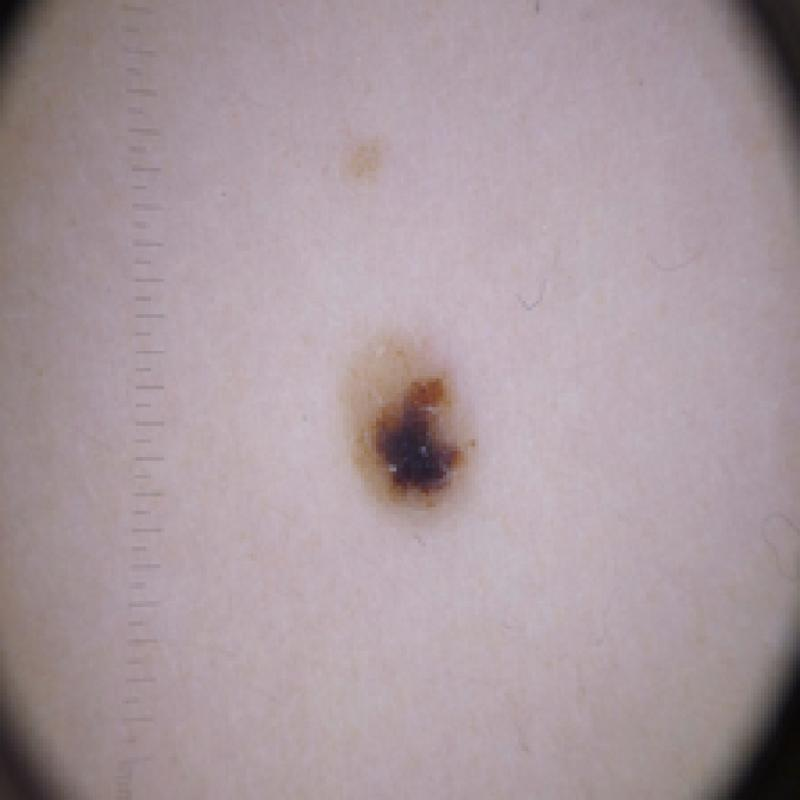benign: (288, 307, 512, 527), (606, 530, 607, 531)
